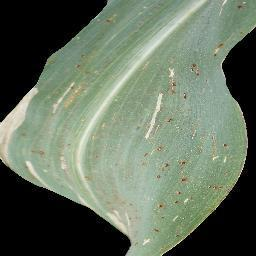Corn_Common_Rust: (139, 63, 203, 256), (1, 85, 46, 195), (103, 112, 138, 253), (53, 120, 105, 210), (45, 51, 101, 116), (203, 126, 237, 216), (99, 4, 124, 31), (218, 0, 248, 15), (61, 24, 86, 41), (209, 35, 224, 58), (237, 26, 250, 36)
